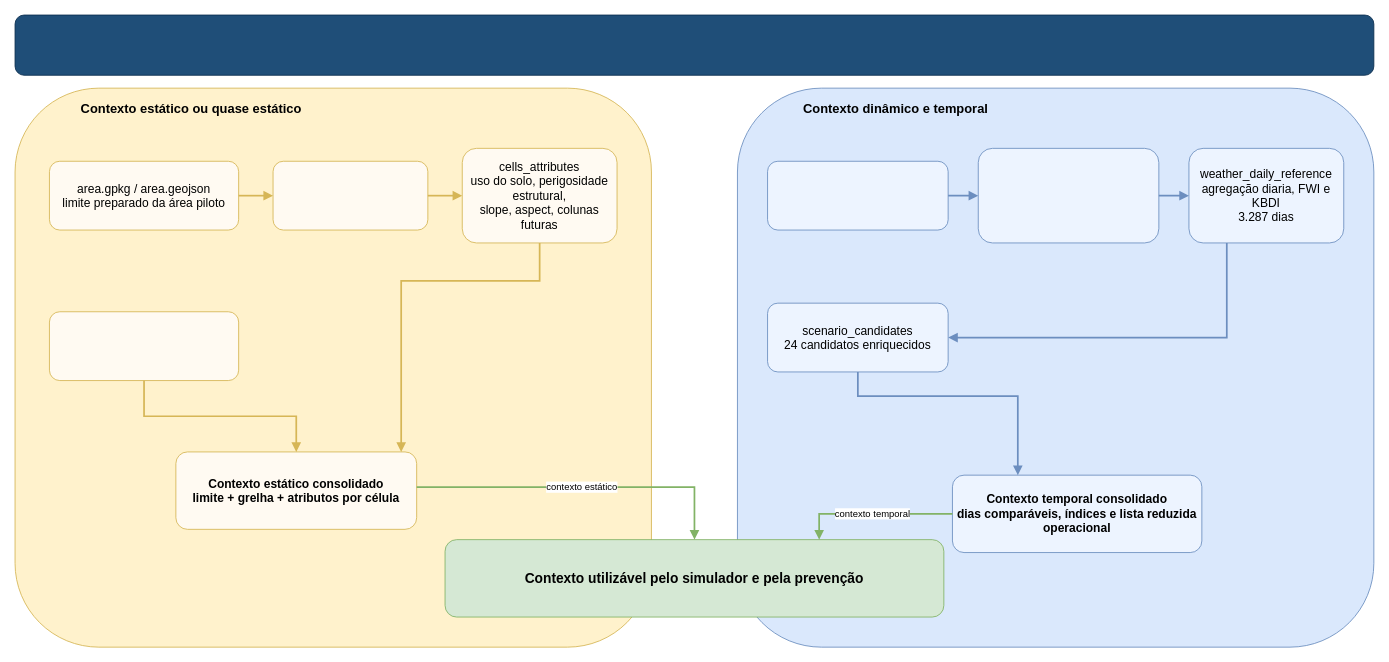
This 1389x662 diagram has some shape labels left out. Here are the shapes that lost their labels. From the top down, the centre of each, then its label:
At point 694,44: "Contexto territorial e meteorológico utilizável".
At point 350,195: "grid_1km.gpkg / geojson 467 células".
At point 857,195: "ipma_nearby_stations estação de referência local".
At point 1068,195: "weather_reference serie horaria 2017-01-01 a 2025-12-31 78.888 registos".
At point 144,346: "Memória territorial fire_history".
